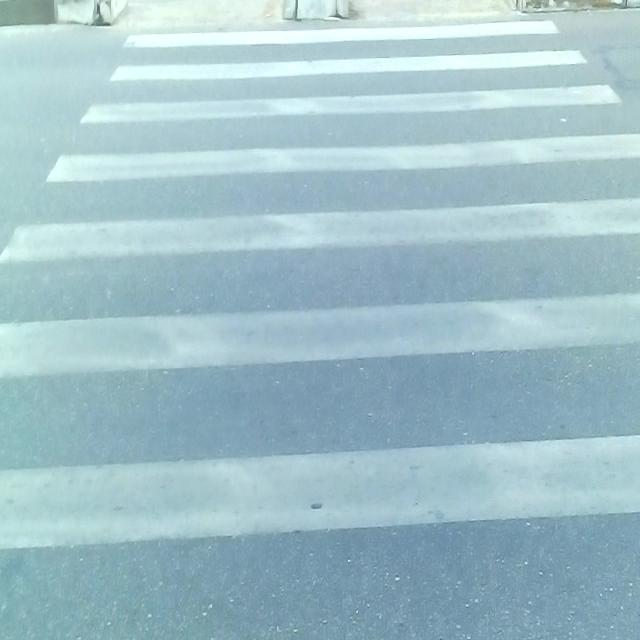crosswalk: (0, 18, 640, 640)
